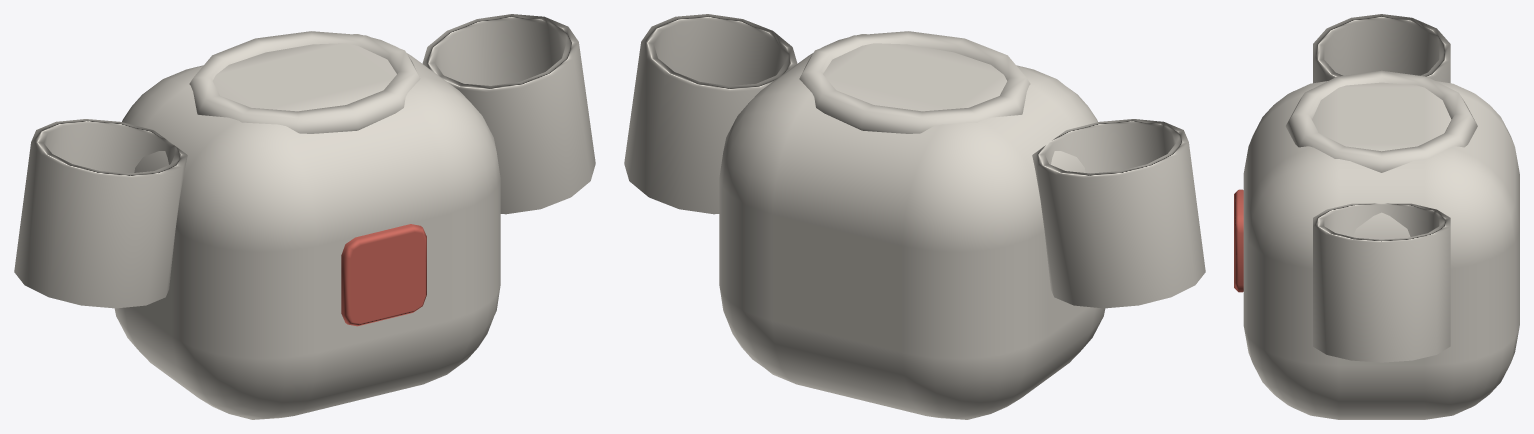
Rendered from bonjour_tee.glb.
3 renders of one model, left to right at view 1: azimuth 30°, elevation 25°; view 2: azimuth 150°, elevation 25°; view 3: azimuth 270°, elevation 25°, orthographic. The views are drawn at different scales.
Visible parts, largest first — view 1: bonjour_tee_Body, bonjour_tee_ArmL, bonjour_tee_ArmR; view 2: bonjour_tee_Body, bonjour_tee_ArmL, bonjour_tee_ArmR; view 3: bonjour_tee_Body, bonjour_tee_ArmR, bonjour_tee_ArmL.
Boxes of the visible parts, x1=… form: bonjour_tee_Body: x1=114, y1=31, x2=500, y2=419; bonjour_tee_ArmL: x1=14, y1=119, x2=187, y2=308; bonjour_tee_ArmR: x1=422, y1=14, x2=595, y2=214; bonjour_tee_Body: x1=719, y1=31, x2=1105, y2=419; bonjour_tee_ArmL: x1=1032, y1=119, x2=1205, y2=308; bonjour_tee_ArmR: x1=624, y1=14, x2=797, y2=214; bonjour_tee_Body: x1=1234, y1=70, x2=1519, y2=419; bonjour_tee_ArmR: x1=1313, y1=203, x2=1450, y2=362; bonjour_tee_ArmL: x1=1313, y1=14, x2=1450, y2=83.
Bounding box in the file's own units: 0.6053 × 0.3119 × 0.3.
